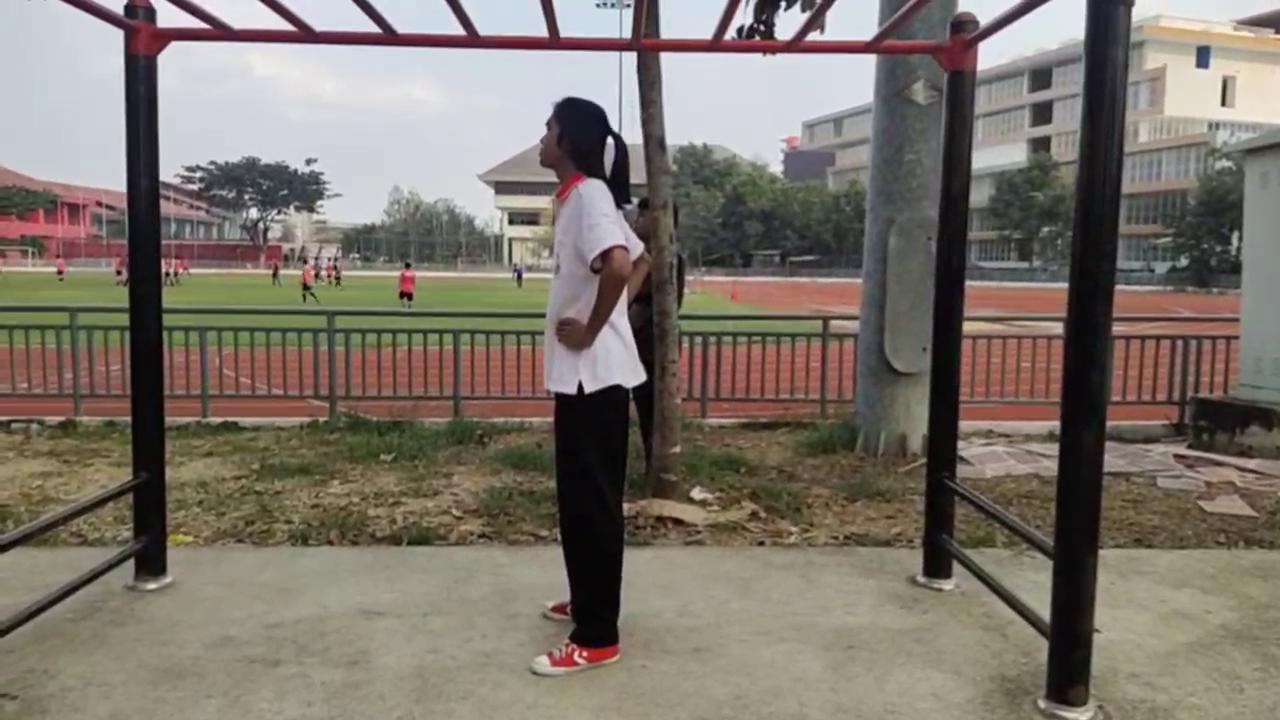squat up: (528, 99, 653, 676)
